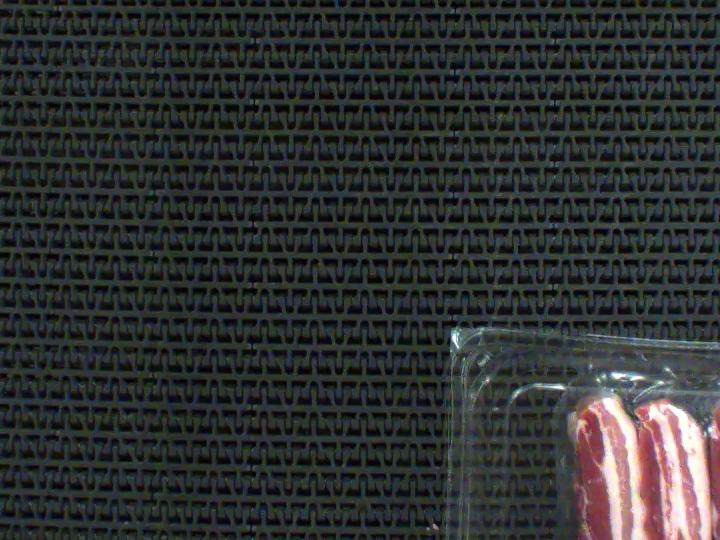unsealed: (491, 368, 720, 540)
